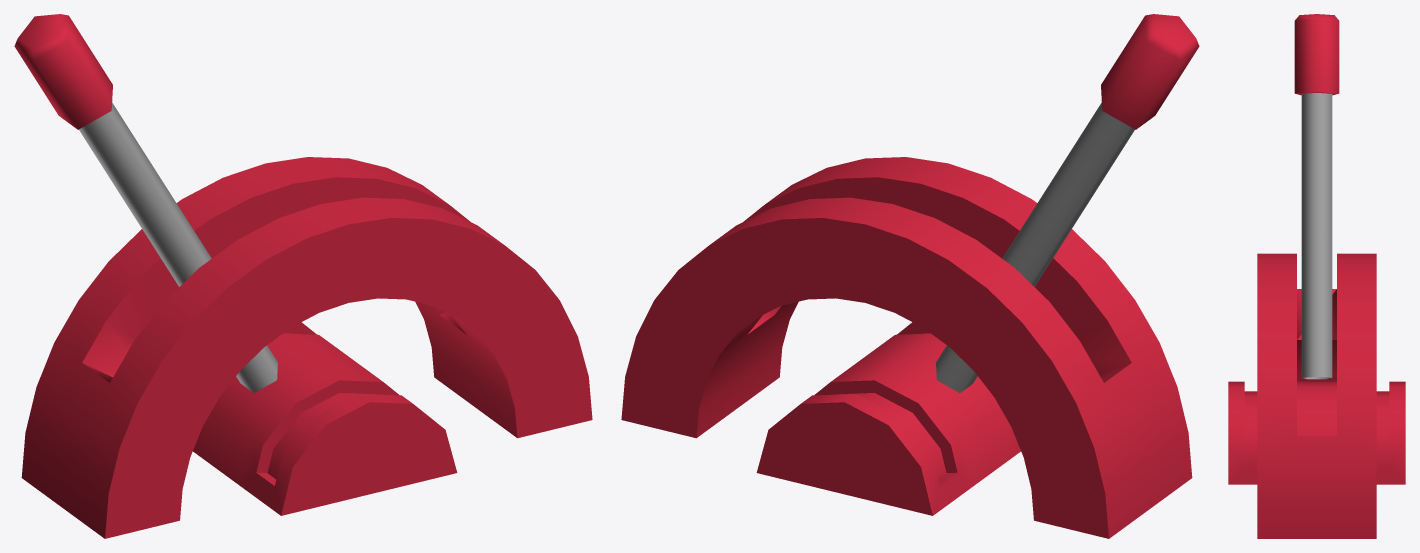
Rendered from lever2.dae.
3 renders of one model, left to right at view 1: azimuth 30°, elevation 25°; view 2: azimuth 150°, elevation 25°; view 3: azimuth 270°, elevation 25°, orthographic. The views are drawn at different scales.
Parts seen in each view (by area): view 1: Body, Handle; view 2: Body, Handle; view 3: Body, Handle.
Boxes of the visible parts, x1=… form: Body: x1=21, y1=157, x2=592, y2=538; Handle: x1=14, y1=14, x2=277, y2=392; Body: x1=621, y1=157, x2=1192, y2=538; Handle: x1=936, y1=14, x2=1199, y2=392; Body: x1=1228, y1=253, x2=1405, y2=538; Handle: x1=1294, y1=14, x2=1339, y2=379.
Size of the model in its own units: 0.8038 by 0.3284 by 0.722.
